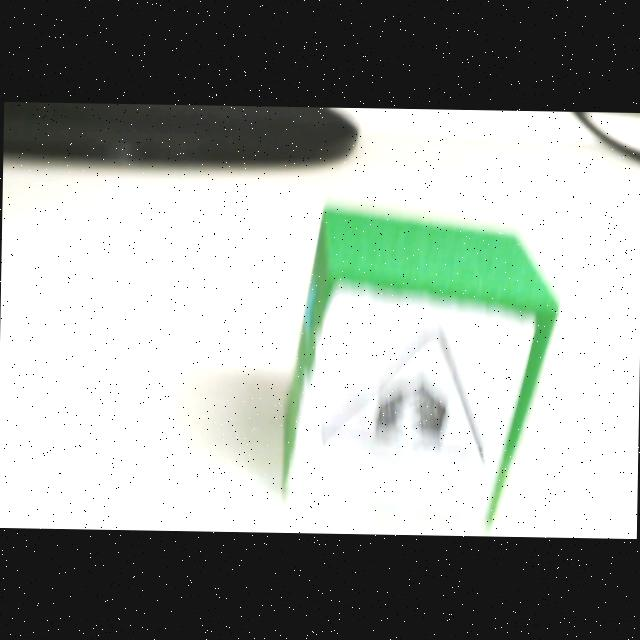Earthquake: (319, 317, 484, 473)
